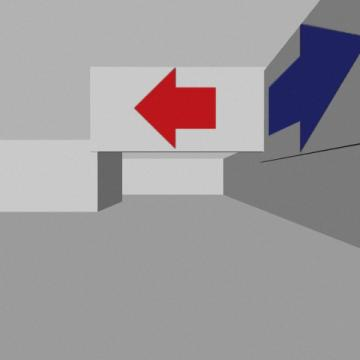blue_right: (268, 25, 359, 151)
red_right: (134, 68, 215, 148)
